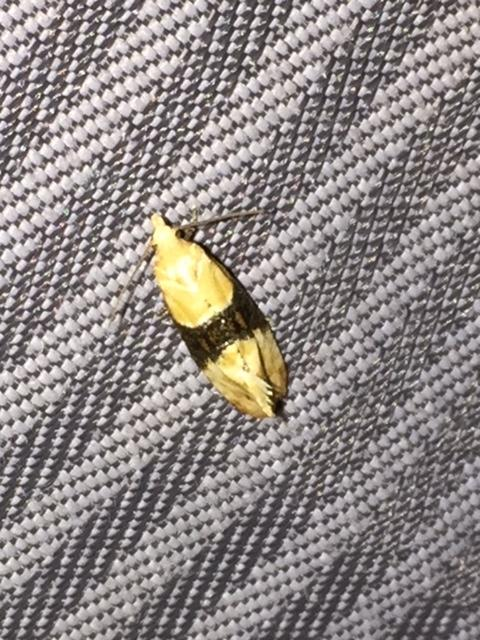Eupoecilia Ambiguella: (146, 207, 290, 421)
